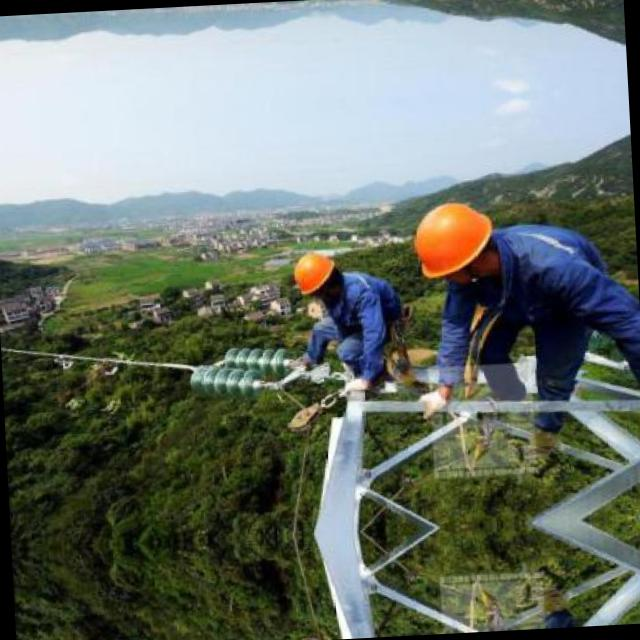helmet: (402, 194, 501, 290), (288, 244, 344, 300)
